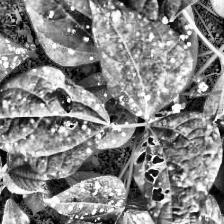Bean Rust: (83, 0, 192, 118), (0, 67, 110, 174), (30, 0, 130, 64), (74, 74, 142, 148), (44, 172, 125, 223), (0, 17, 22, 115), (169, 5, 200, 59), (163, 200, 224, 223), (117, 209, 166, 224)
